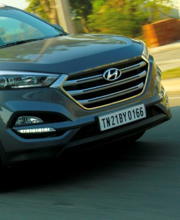TN21BY0166: (98, 102, 147, 132)
